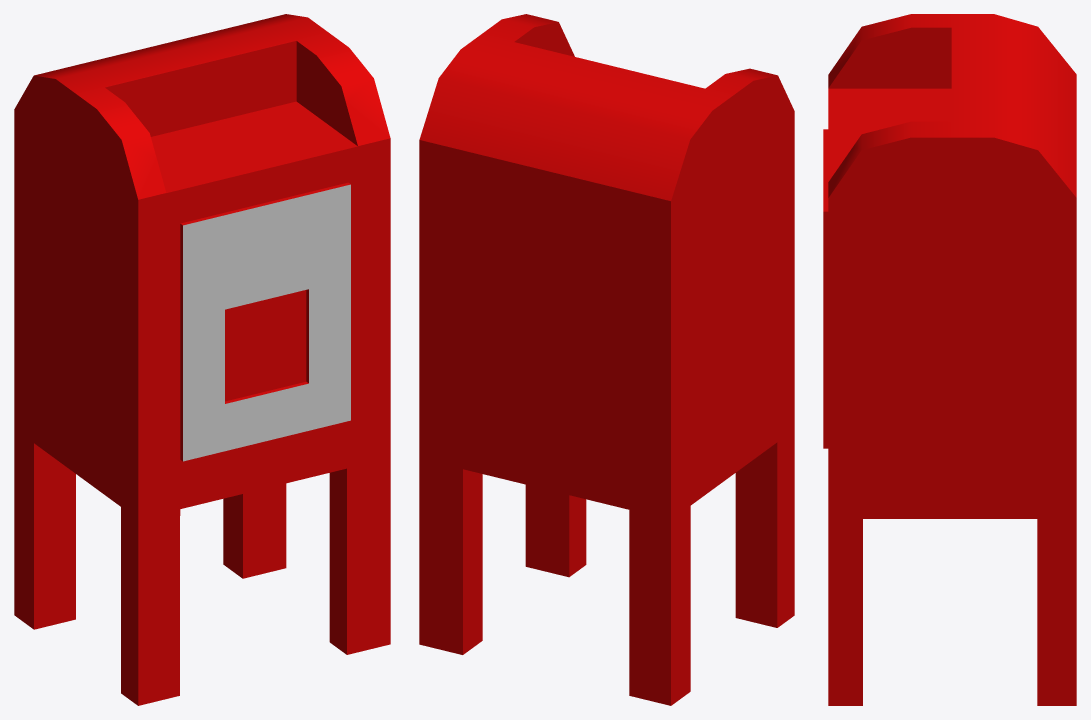
The model's file is Red Mailbox.fbx.
3 renders of one model, left to right at view 1: azimuth 30°, elevation 25°; view 2: azimuth 150°, elevation 25°; view 3: azimuth 270°, elevation 25°, orthographic.
Visible parts, largest first — view 1: polySurface3; view 2: polySurface3; view 3: polySurface3.
Boxes of the visible parts, x1,y1,x2,y2 form: polySurface3: (14, 14, 390, 705); polySurface3: (419, 14, 794, 705); polySurface3: (823, 14, 1076, 705).
Bounding box in the file's own units: 0.5989 × 1.28 × 0.5196.
